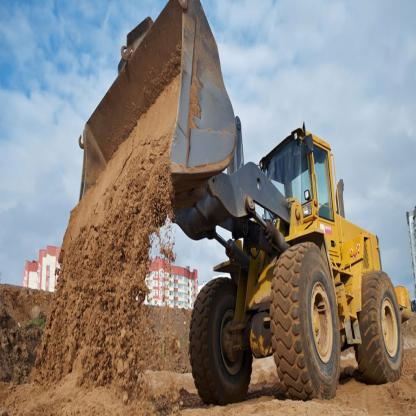bull_dozer/loader/grader: (65, 1, 406, 415)
